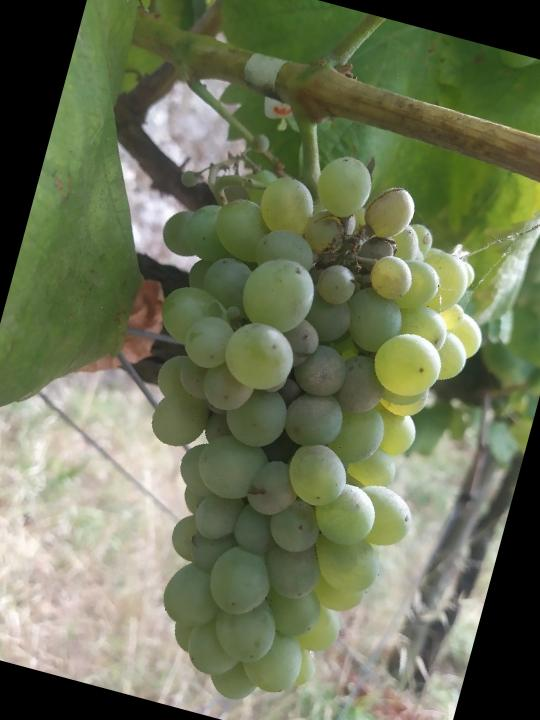grape: (48, 108, 531, 720)
